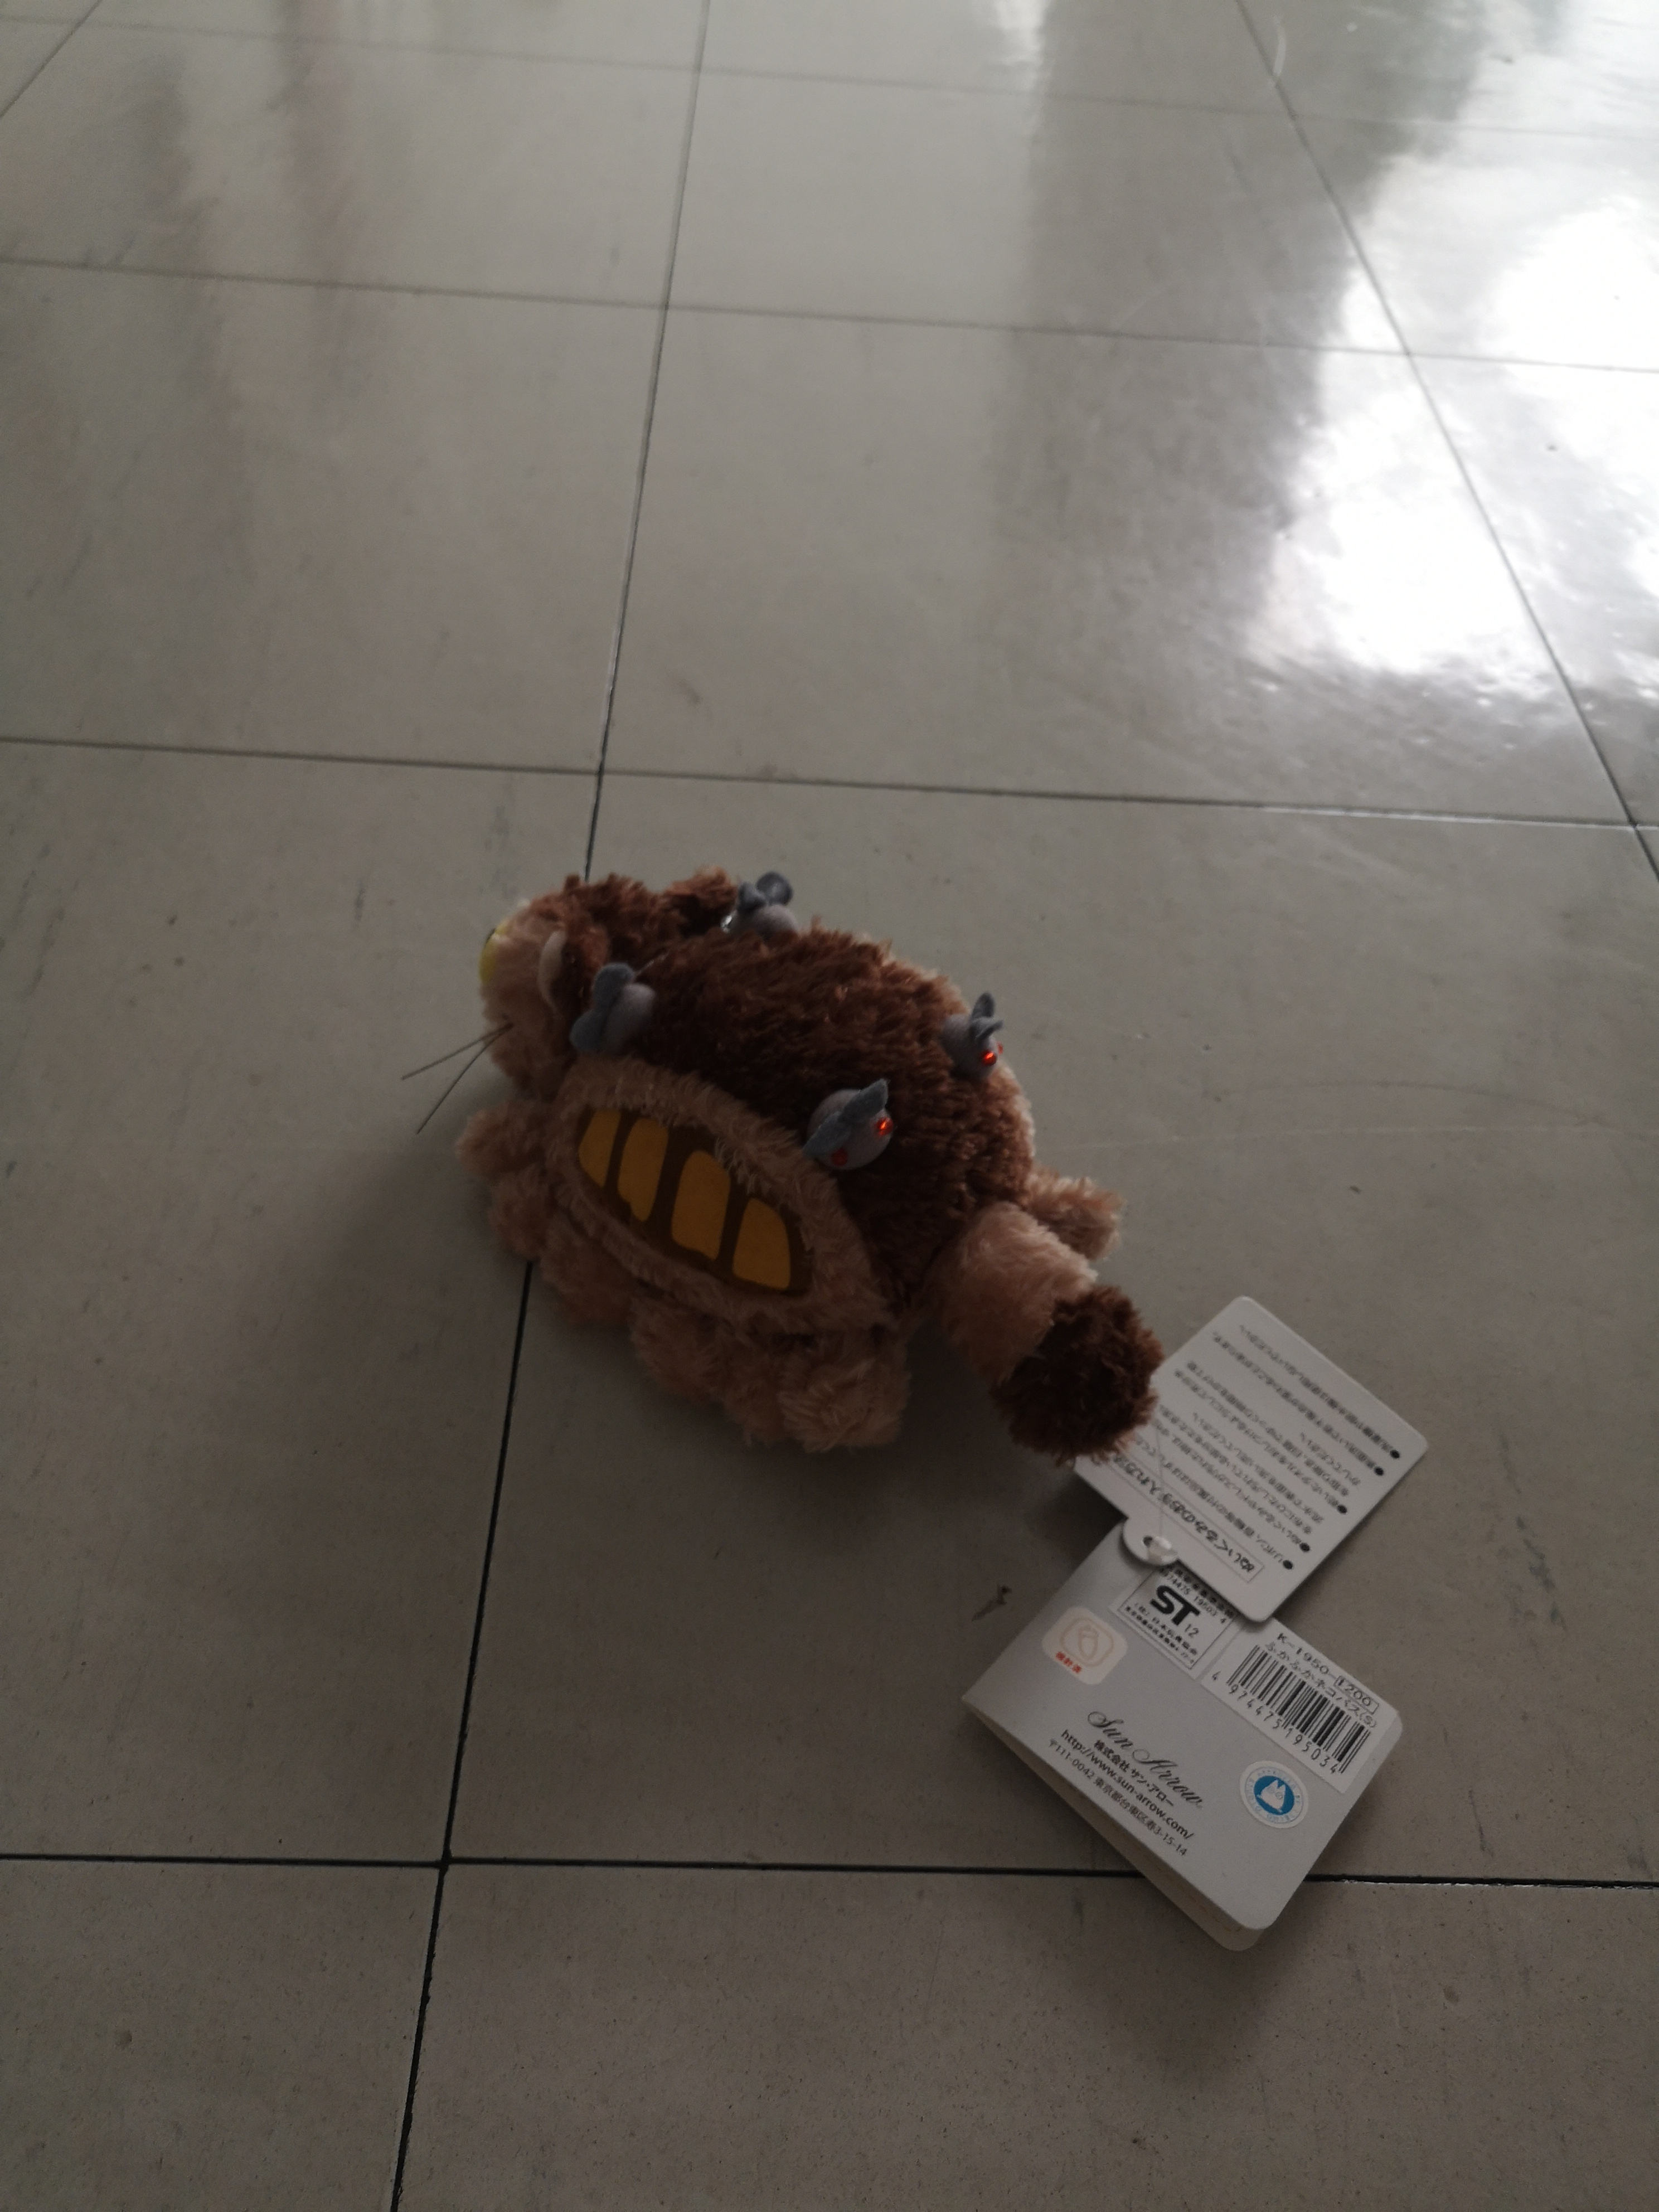nekobus: (376, 846, 1201, 1487)
